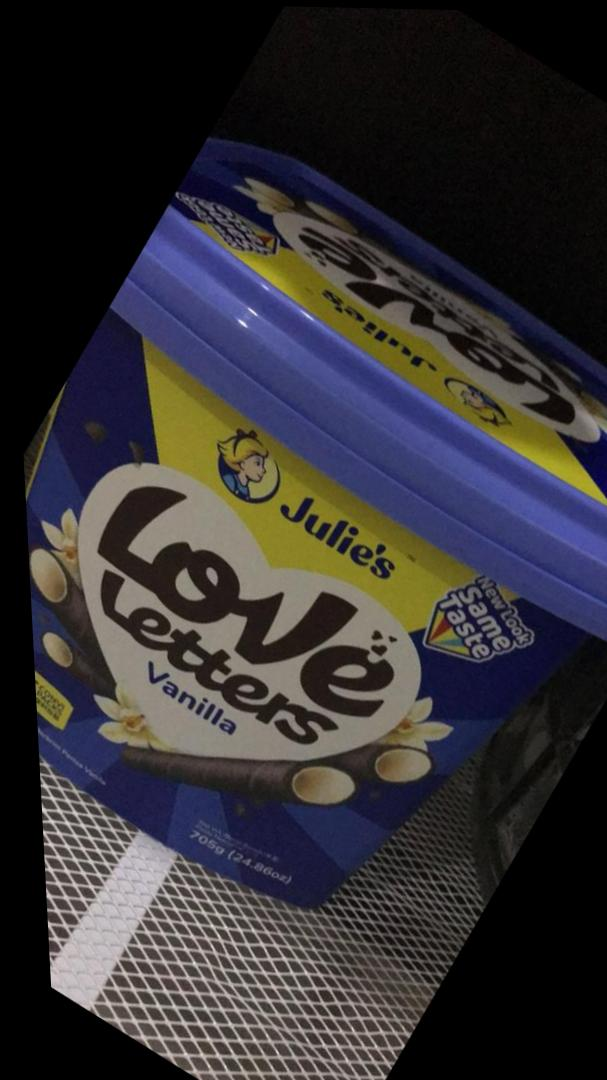plastic: (5, 101, 607, 1011)
